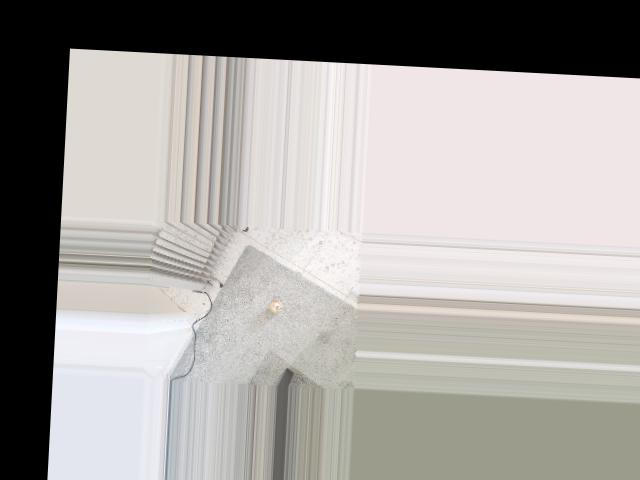onion: (267, 299, 283, 313)
